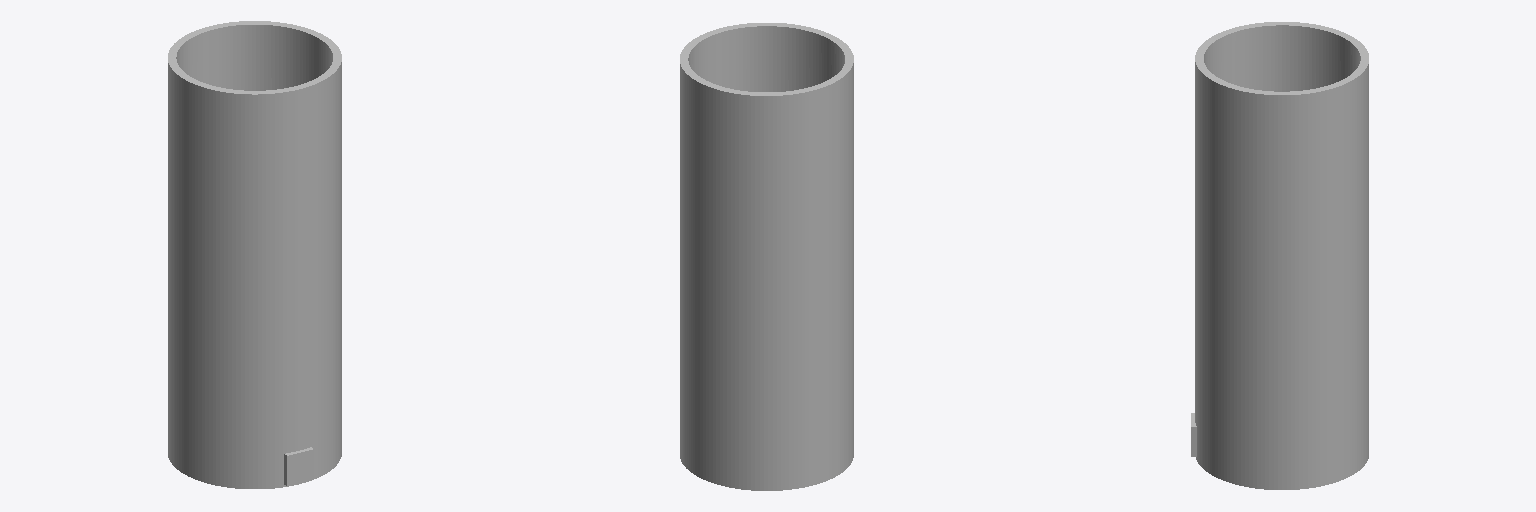
Rendered from cilindroBajo.obj.
The picture shows the model from 3 angles: view 1: azimuth 30°, elevation 25°; view 2: azimuth 150°, elevation 25°; view 3: azimuth 270°, elevation 25°; orthographic projection.
Parts seen in each view (by area): view 1: Cilindro, Cubo.008_Cubo.013; view 2: Cilindro; view 3: Cilindro.
Part boxes in pixels (x1,y1,x2,y2): Cilindro: (168, 21, 341, 488); Cubo.008_Cubo.013: (284, 447, 313, 485); Cilindro: (680, 23, 853, 490); Cilindro: (1195, 22, 1368, 489).
Size of the model in its own units: 0.02 by 0.05 by 0.0205.